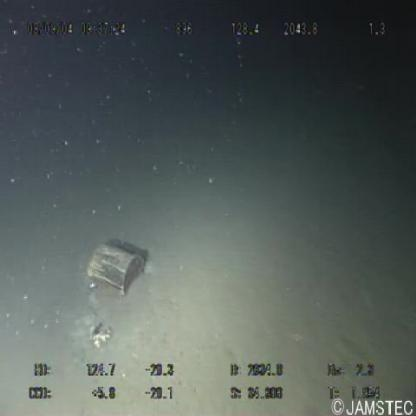Rác: (87, 239, 148, 295)
